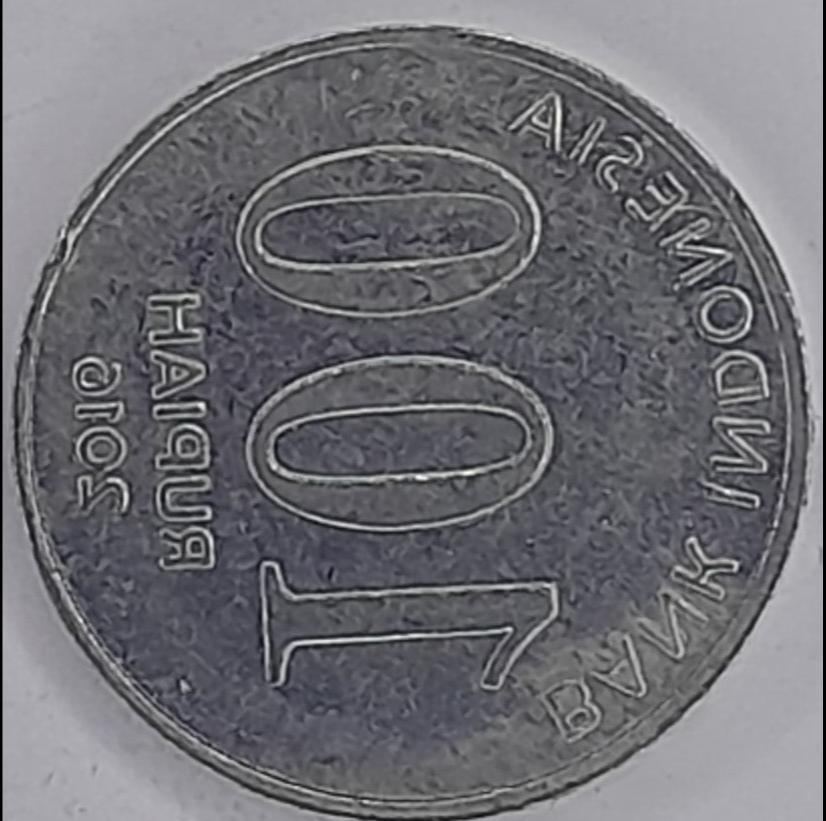coin_100_e2016: (8, 18, 816, 820)
